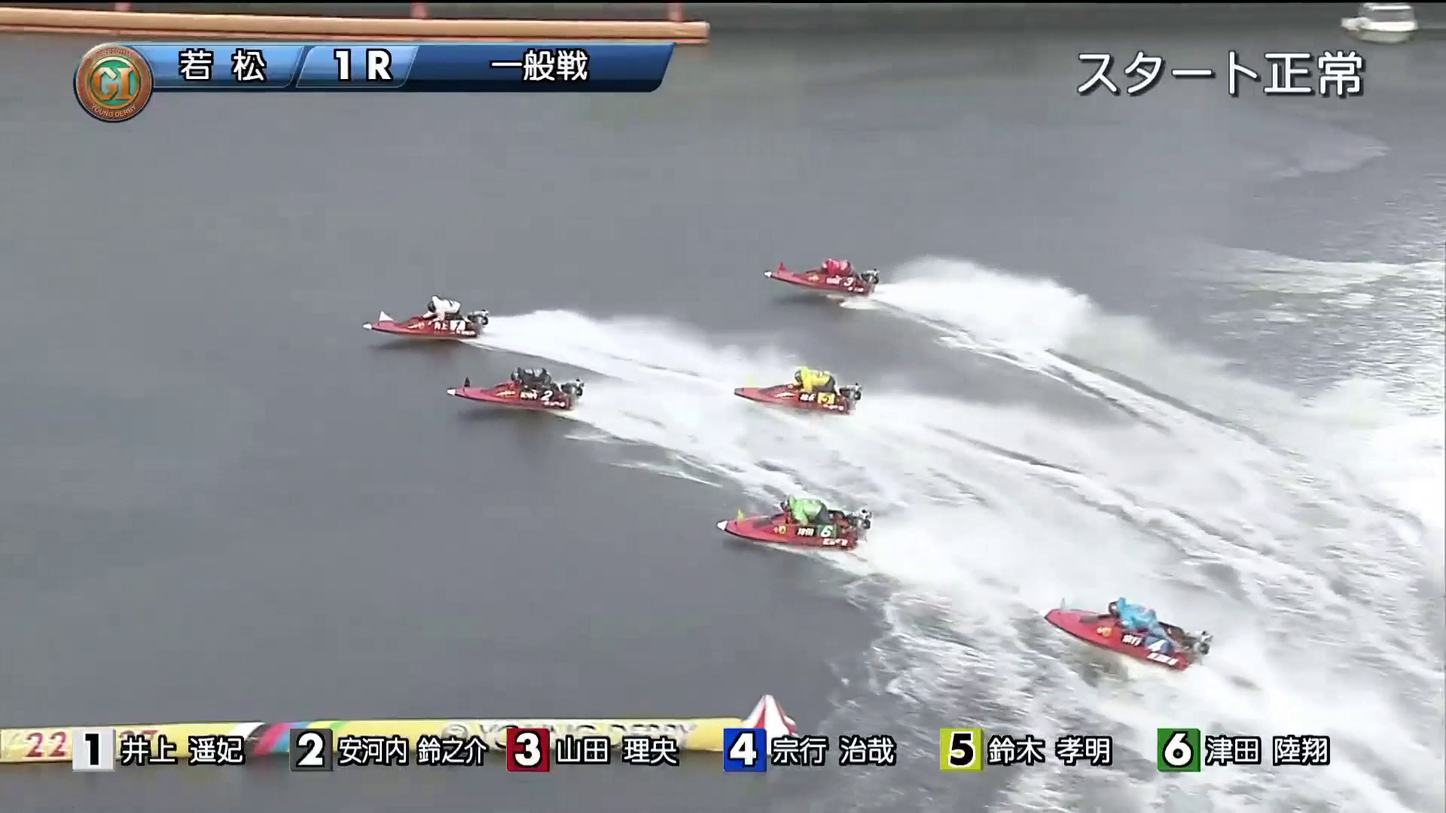１号艇: (369, 271, 439, 324)
２号艇: (425, 370, 554, 431)
３号艇: (785, 249, 883, 309)
４号艇: (747, 489, 881, 555)
５号艇: (1076, 603, 1199, 658)
６号艇: (741, 357, 841, 437)
